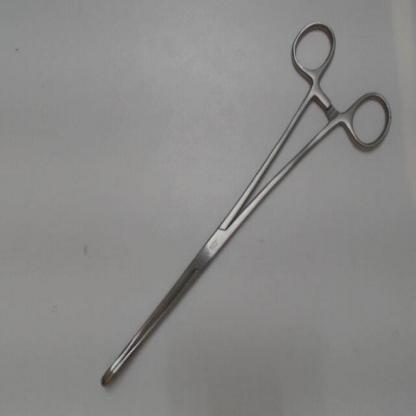Sponge Forceps: (96, 9, 397, 400)
